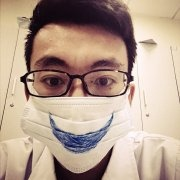Mask: (28, 62, 127, 162)
